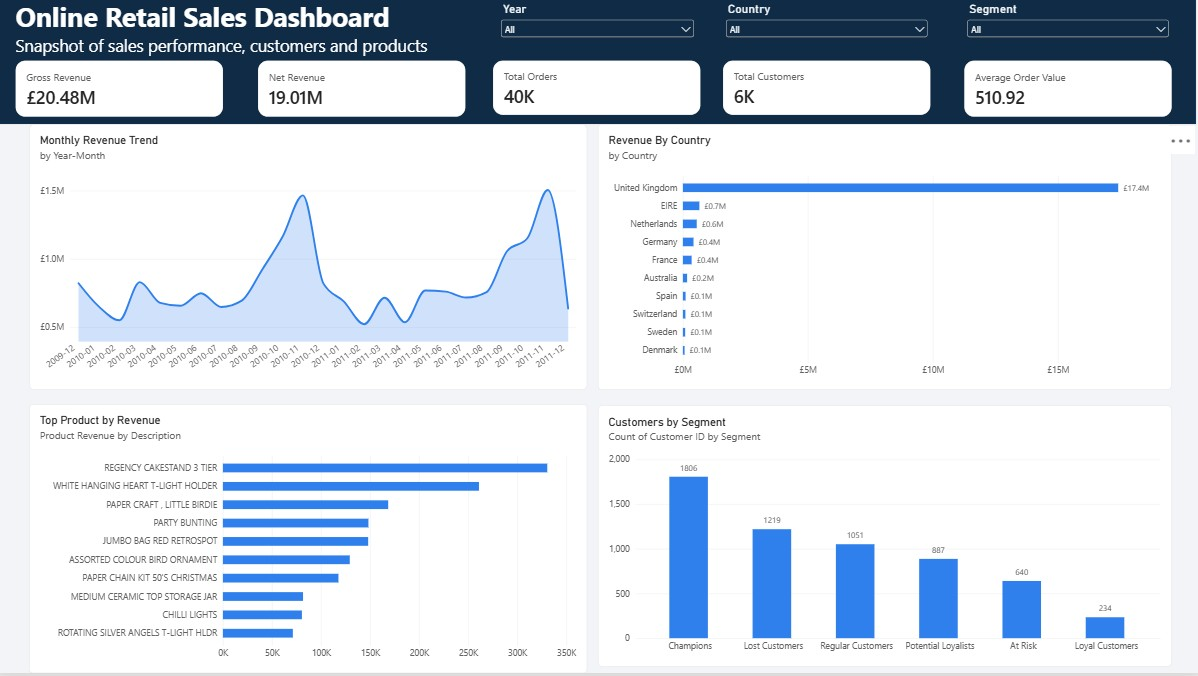

Layout of this report page (visuals, bound fields, positions):
{"tool":"powerbi","page":{"name":"Executive Overview","canvas":[1920,1080],"ordinal":0},"visuals":[{"type":"lineChart","fields":{"Category":["DateTable.Year-Month"],"Y":["Measures (2).Gross Revenue"]},"box":[50,202.5,892.5,425],"z":5},{"type":"clusteredBarChart","fields":{"Category":["sales_clean.Country"],"Y":["Measures (2).Gross Revenue"]},"box":[960,202.5,917.5,425],"z":6},{"type":"barChart","title":"Top Product by Revenue","fields":{"Category":["sales_clean.Description"],"Y":["DateTable.Product Revenue"]},"box":[50,650,892.5,430],"z":7},{"type":"columnChart","title":"Customers by Segment","fields":{"Category":["customer_segments.Segment"],"Y":["CountNonNull(customer_segments.Customer ID)"]},"box":[960,652.5,917.5,417.5],"z":8},{"type":"shape","box":[0,0,1917.5,202.5],"z":9},{"type":"textbox","box":[27.5,0,665,132.5],"z":10},{"type":"cardVisual","fields":{"Data":["Measures (2).Gross Revenue"]},"box":[27.5,100,332.5,90],"z":11},{"type":"cardVisual","fields":{"Data":["Measures (2).Net Revenue"]},"box":[415,100,332.5,90],"z":12},{"type":"cardVisual","fields":{"Data":["Measures (2).Total Orders"]},"box":[792.5,100,332.5,87.5],"z":13},{"type":"cardVisual","fields":{"Data":["Measures (2).Total Customers"]},"box":[1160,100,332.5,87.5],"z":14},{"type":"cardVisual","fields":{"Data":["Measures (2).Average Order Value"]},"box":[1545,100,332.5,90],"z":15},{"type":"slicer","fields":{"Values":["DateTable.Year"]},"box":[800.8,5,318.3,67.5],"z":16},{"type":"slicer","fields":{"Values":["sales_clean.Country"]},"box":[1160,5,332.5,67.5],"z":17},{"type":"slicer","fields":{"Values":["customer_segments.Segment"]},"box":[1545,5,332.5,67.5],"z":18}]}

Visuals, with their boxes in screenshot pixels (x1, y1, x2, y2), scaled from the page's 1920x1080 canvas onto the 1198x676 screenshot:
lineChart - DateTable.Year-Month x Measures (2).Gross Revenue: (31, 127, 588, 393)
clusteredBarChart - sales_clean.Country x Measures (2).Gross Revenue: (599, 127, 1171, 393)
"Top Product by Revenue" barChart: (31, 407, 588, 675)
"Customers by Segment" columnChart: (599, 408, 1171, 670)
shape: (0, 0, 1196, 127)
textbox: (17, 0, 432, 83)
cardVisual - Measures (2).Gross Revenue: (17, 63, 225, 119)
cardVisual - Measures (2).Net Revenue: (259, 63, 466, 119)
cardVisual - Measures (2).Total Orders: (494, 63, 702, 117)
cardVisual - Measures (2).Total Customers: (724, 63, 931, 117)
cardVisual - Measures (2).Average Order Value: (964, 63, 1171, 119)
slicer - DateTable.Year: (500, 3, 698, 45)
slicer - sales_clean.Country: (724, 3, 931, 45)
slicer - customer_segments.Segment: (964, 3, 1171, 45)
